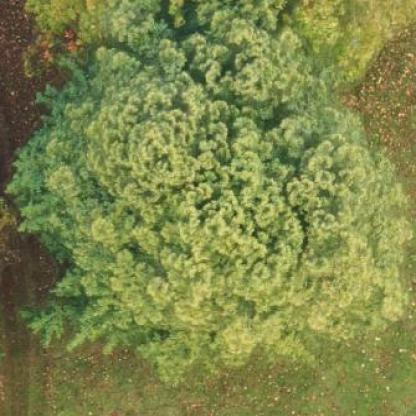Deciduous Tree: (20, 55, 406, 341), (31, 0, 391, 82)
